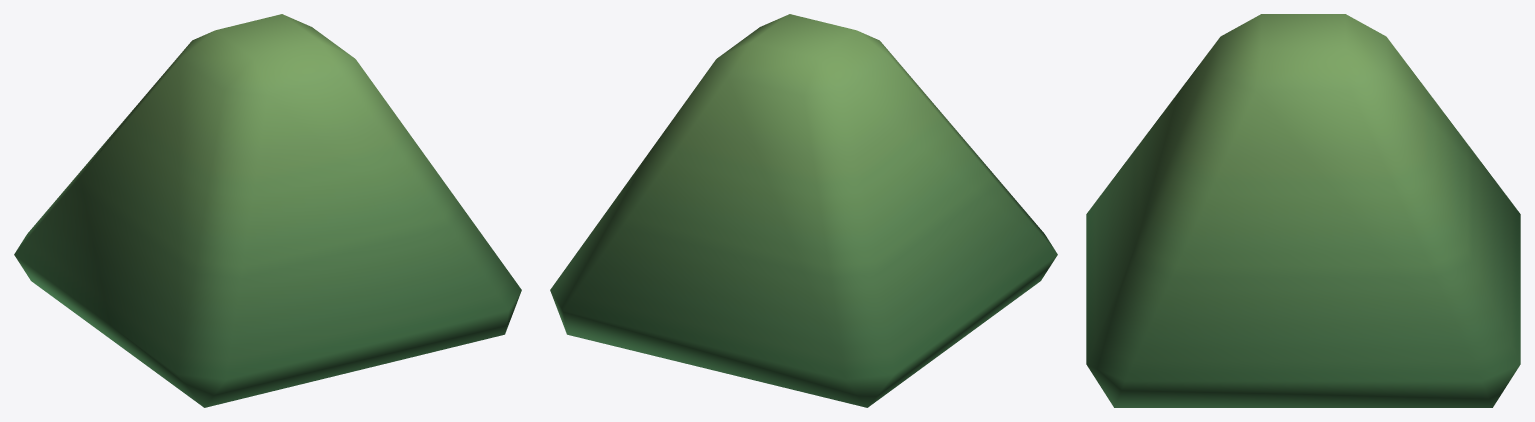
The model's file is bush_4_a-C0WRqocf.glb.
3 renders of one model, left to right at view 1: azimuth 30°, elevation 25°; view 2: azimuth 150°, elevation 25°; view 3: azimuth 270°, elevation 25°, orthographic. The views are drawn at different scales.
Visible parts, largest first — view 1: Bush_4_A_Color1; view 2: Bush_4_A_Color1; view 3: Bush_4_A_Color1.
Part boxes in pixels (<box>): Bush_4_A_Color1: <box>14,14,521,407</box>; Bush_4_A_Color1: <box>550,14,1057,407</box>; Bush_4_A_Color1: <box>1086,14,1520,407</box>.
Size of the model in its own units: 1.5 by 1.13 by 1.5.
Materials: 1 (1 with a texture image).
